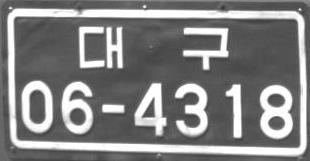0: (20, 78, 53, 134)
1: (219, 82, 251, 139)
3: (174, 81, 210, 137)
4: (133, 82, 166, 136)
6: (60, 79, 94, 134)
8: (259, 83, 294, 139)
대구_D: (78, 24, 229, 70)
